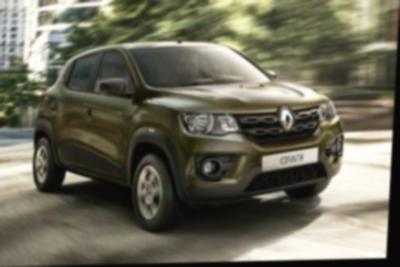License_Plate: (268, 142, 316, 168)
